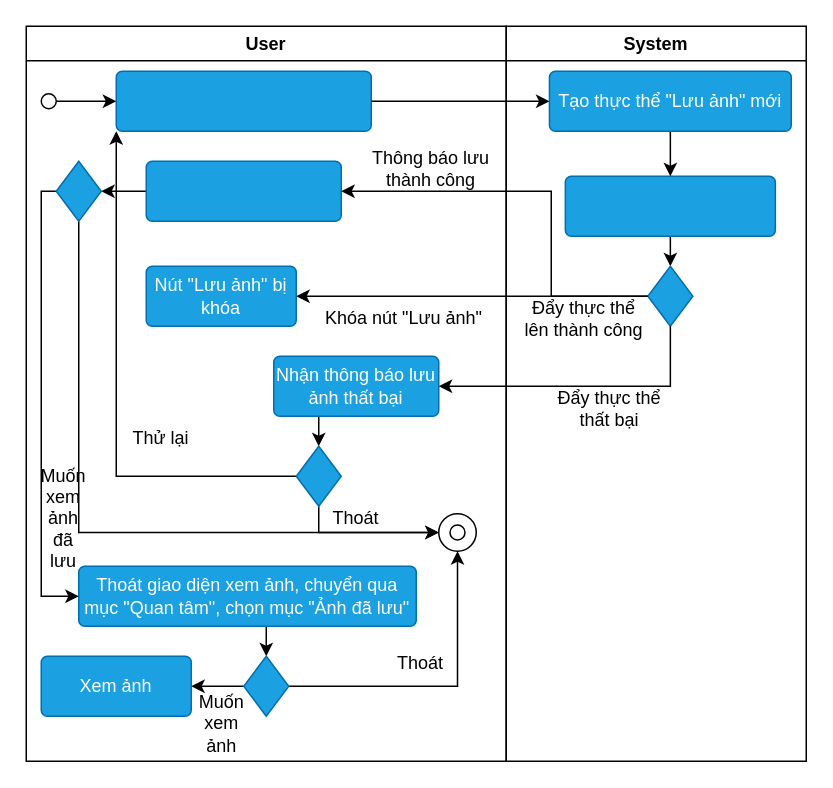
The diagram is 833 pixels wide and 788 high, and some of its shapes have lost their labels. Each missing label, with the centre of its shape:
Nhấp "Lưu ảnh" khi ở giao diện xem ảnh (Nếu không bị khóa): (243,100)
Nhận thông báo "Lưu thành công": (243,190)
Đẩy thực thể lên CSDL: (669,205)
